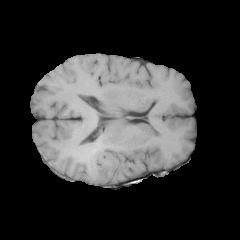glioma: (62, 121, 162, 183)
